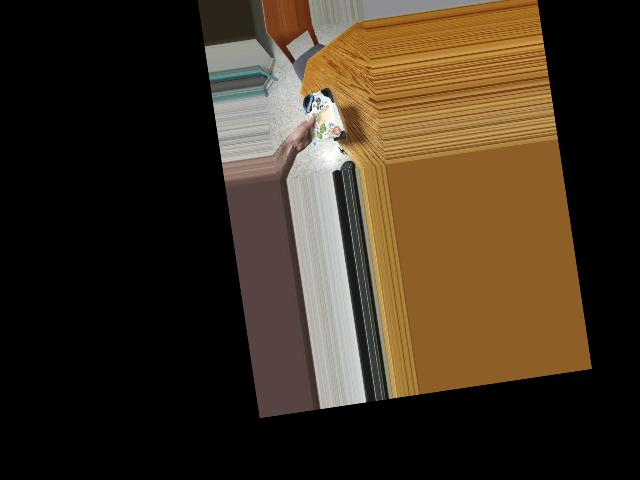cheese: (291, 86, 350, 150)
